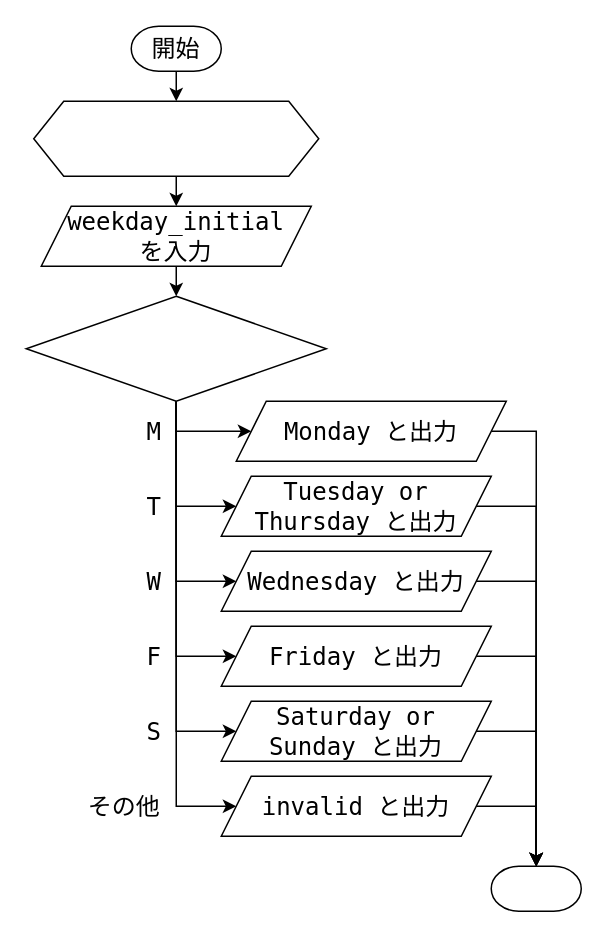
The diagram is 608 pixels wide and 938 high, and some of its shapes have lost their labels. Here are the shapes that lost their labels. From the top down, the centre of each, then its label:
point 175,138: 文字型の変数: weekday_initial
point 175,348: weekday_initial
point 535,888: 終了
